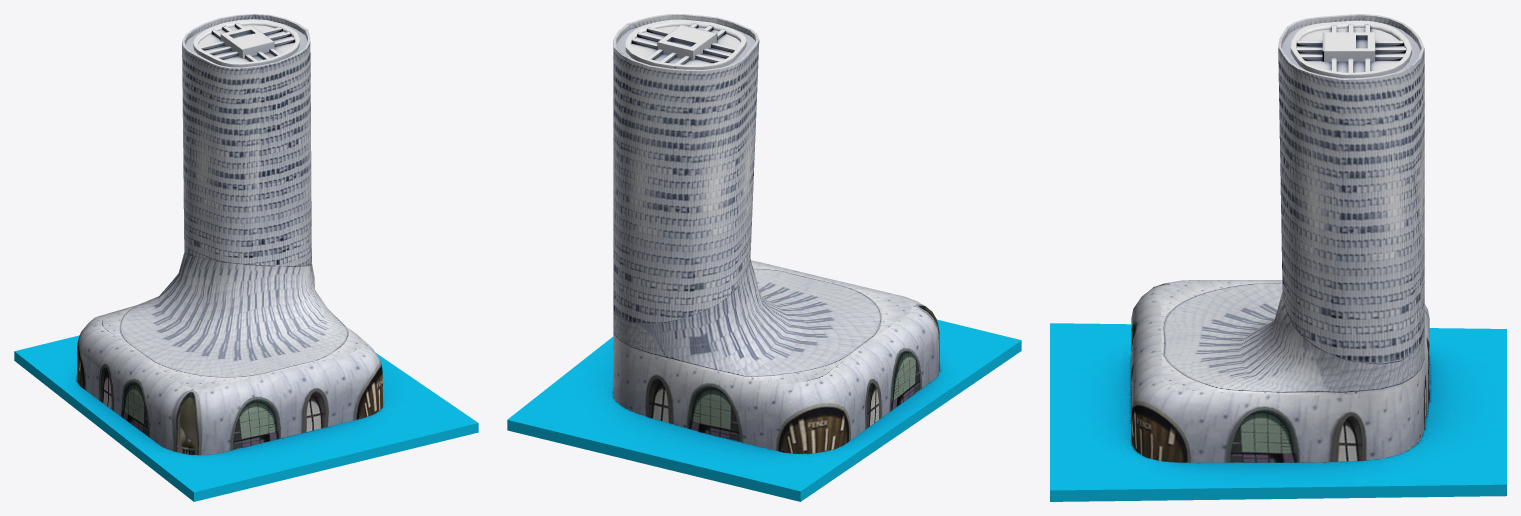
The model's file is sjzx.gltf.
3 views of the same model, side by side, from view 1: azimuth 30°, elevation 25°; view 2: azimuth 150°, elevation 25°; view 3: azimuth 270°, elevation 25° (orthographic). The views are drawn at different scales.
Parts seen in each view (by area): view 1: polySurface10; view 2: polySurface10; view 3: polySurface10.
Part boxes in pixels (box(x1,y1,x2,y2)): polySurface10: box(14, 14, 478, 501); polySurface10: box(507, 14, 1021, 501); polySurface10: box(1050, 14, 1506, 501).
Bounding box in the file's own units: 17.32 × 19.19 × 19.99.
1 material, 1 textured.
